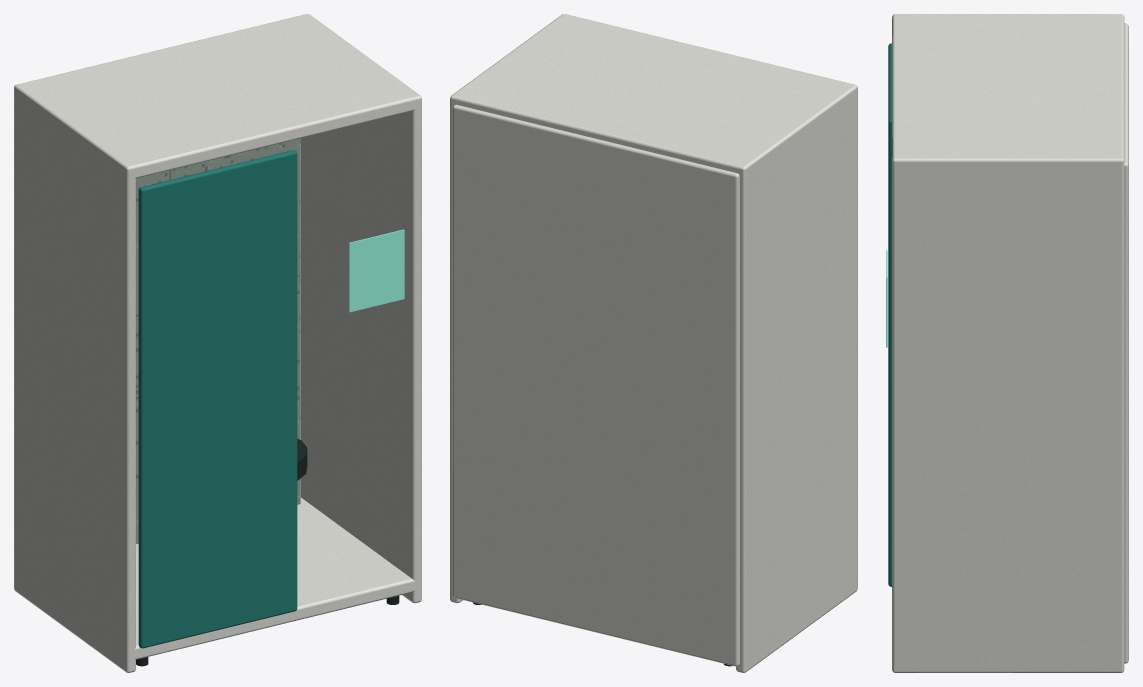
Rendered from detail-photo-booth-0.glb.
3 renders of one model, left to right at view 1: azimuth 30°, elevation 25°; view 2: azimuth 150°, elevation 25°; view 3: azimuth 270°, elevation 25°, orthographic.
Parts seen in each view (by area): view 1: cabinet_side (×2), privacy_curtain, cabinet_cap (×2), photo_backdrop, label_photo_screen; view 2: cabinet_back, cabinet_side (×2), cabinet_cap; view 3: cabinet_side (×2), cabinet_cap, cabinet_back, privacy_curtain.
Boxes of the visible parts, x1,y1,x2,y2 form: cabinet_side (×2): (14,14,421,672); privacy_curtain: (138,150,297,648); cabinet_cap (×2): (22,15,415,659); photo_backdrop: (136,138,300,544); label_photo_screen: (349,229,404,312); cabinet_back: (452,104,739,666); cabinet_side (×2): (450,14,857,672); cabinet_cap: (456,15,849,172); cabinet_side (×2): (892,14,1124,672); cabinet_cap: (892,16,1124,157); cabinet_back: (1124,23,1128,663); privacy_curtain: (888,43,891,586).
Bounding box in the file's own units: 1.35 × 2.2 × 0.9405.
Materials: 6 (5 with a texture image).
